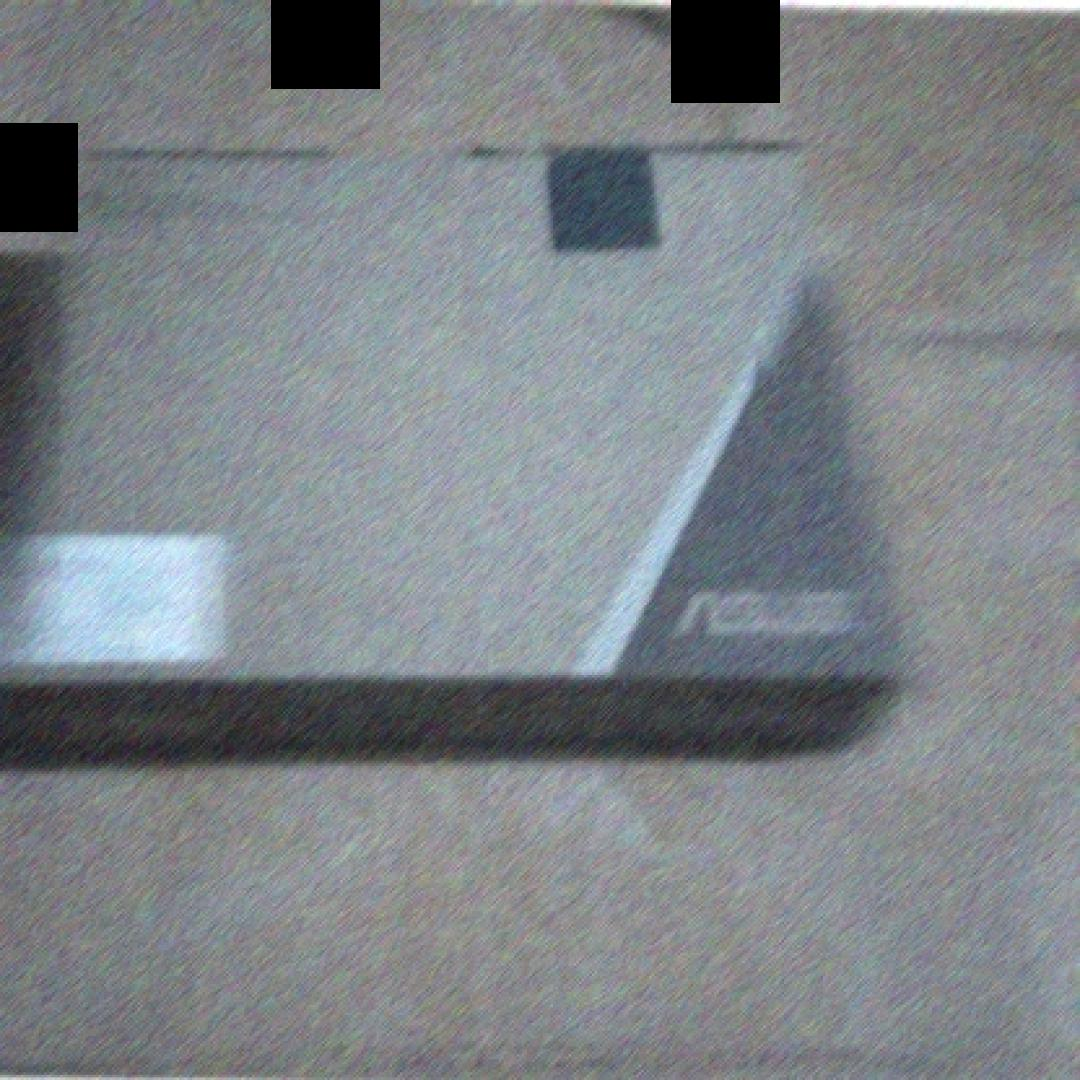package: (13, 140, 909, 740)
